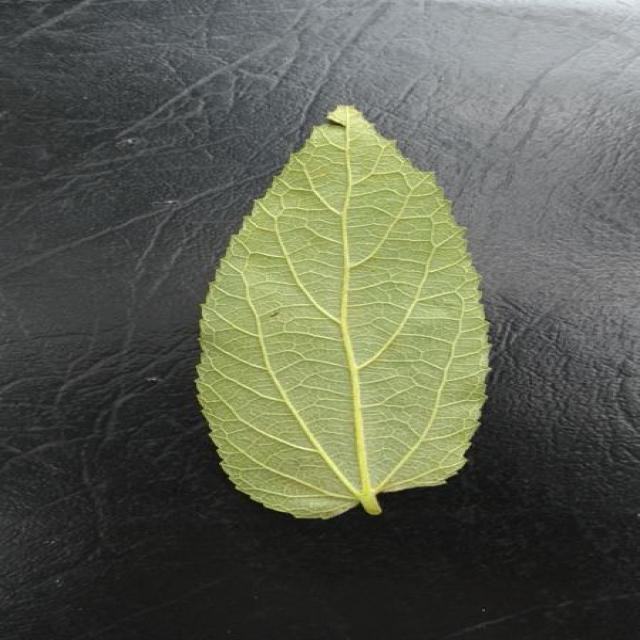gasagase: (197, 105, 488, 518)
